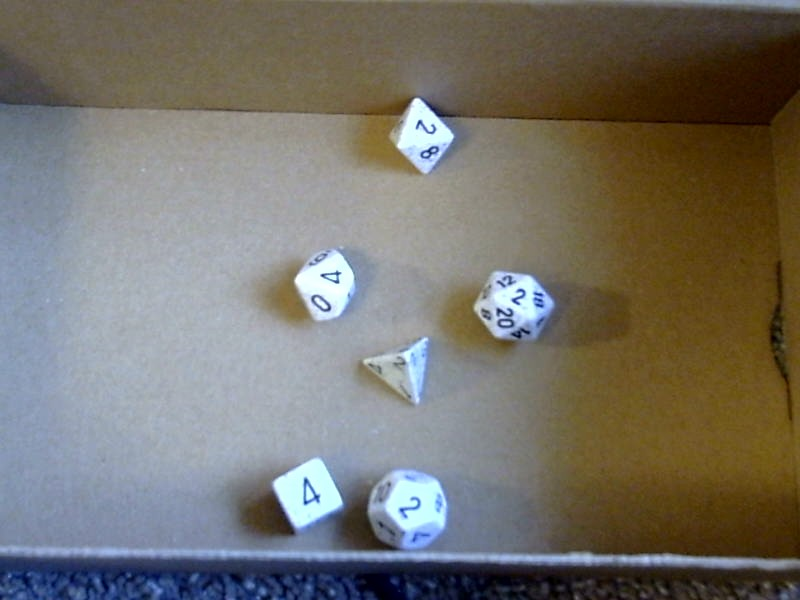d10 4: (288, 244, 359, 326)
d12 2: (364, 462, 458, 551)
d20 2: (471, 265, 561, 348)
d4 2: (358, 335, 429, 408)
d6 4: (264, 452, 352, 542)
d8 2: (384, 93, 456, 178)
